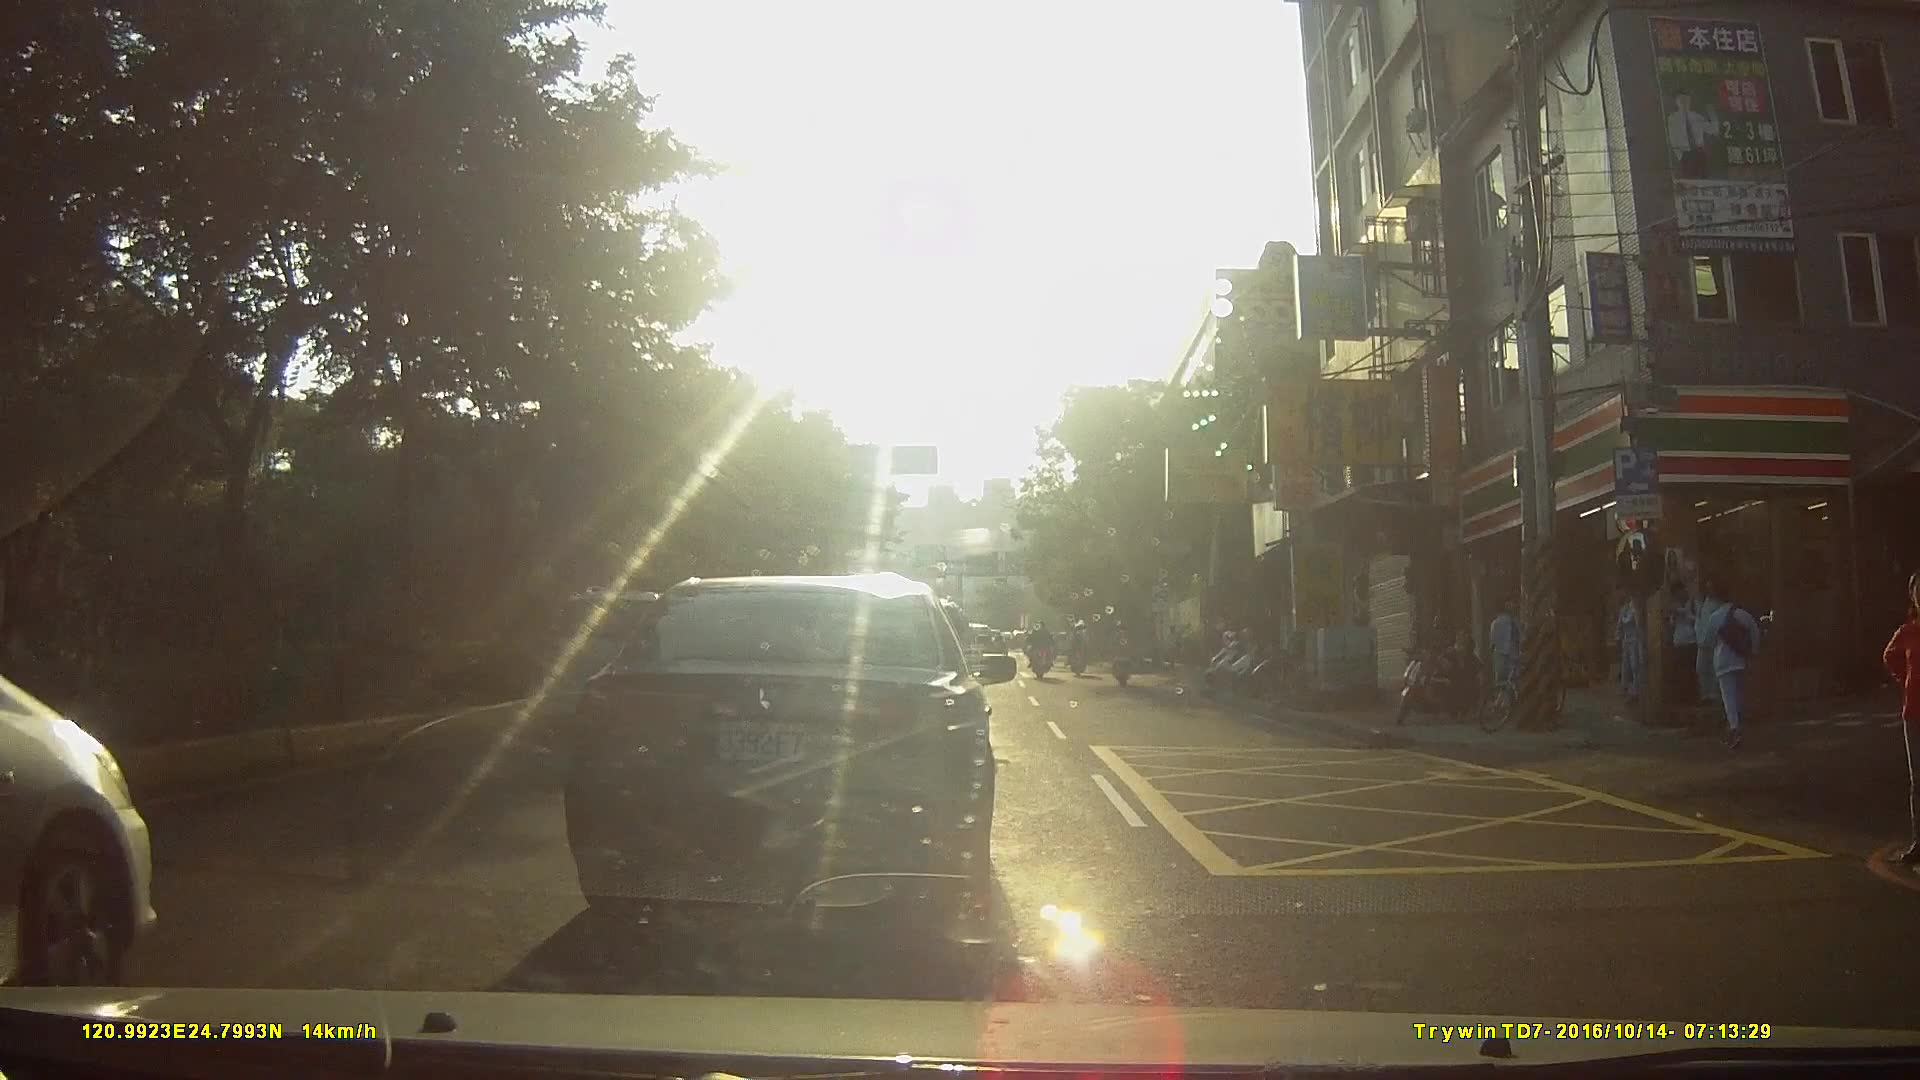pedestrian: (1693, 582, 1769, 753), (1888, 567, 1920, 854), (1667, 569, 1703, 709), (1618, 583, 1655, 708), (1489, 598, 1530, 710)
rider: (1026, 618, 1057, 680), (1065, 620, 1096, 681), (1114, 620, 1138, 689)
vehicle: (545, 568, 1025, 953), (0, 540, 261, 986)
